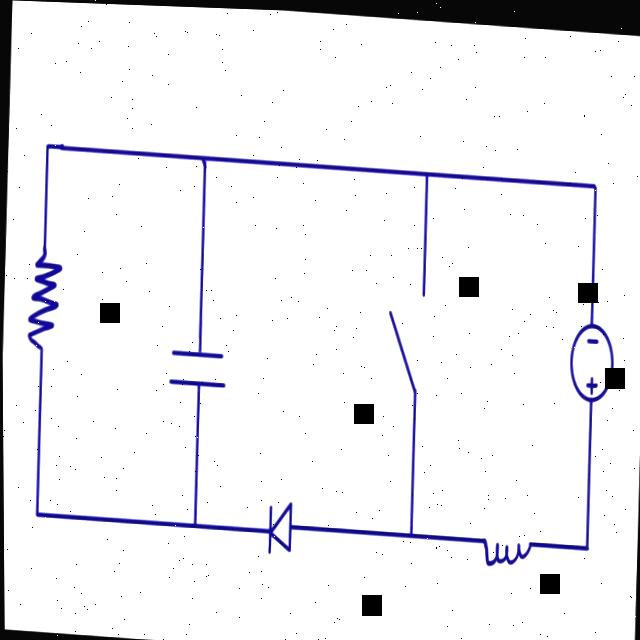capacitor: (161, 322, 240, 409)
diode: (253, 488, 303, 566)
inductor: (470, 505, 534, 574)
resistor: (13, 228, 74, 375)
source: (563, 310, 614, 413)
switch: (374, 248, 439, 430)
